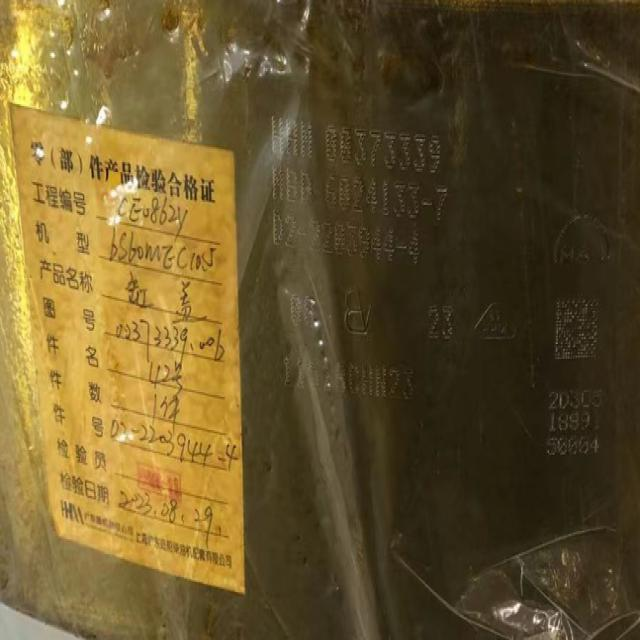dmc: (554, 298, 598, 360)
